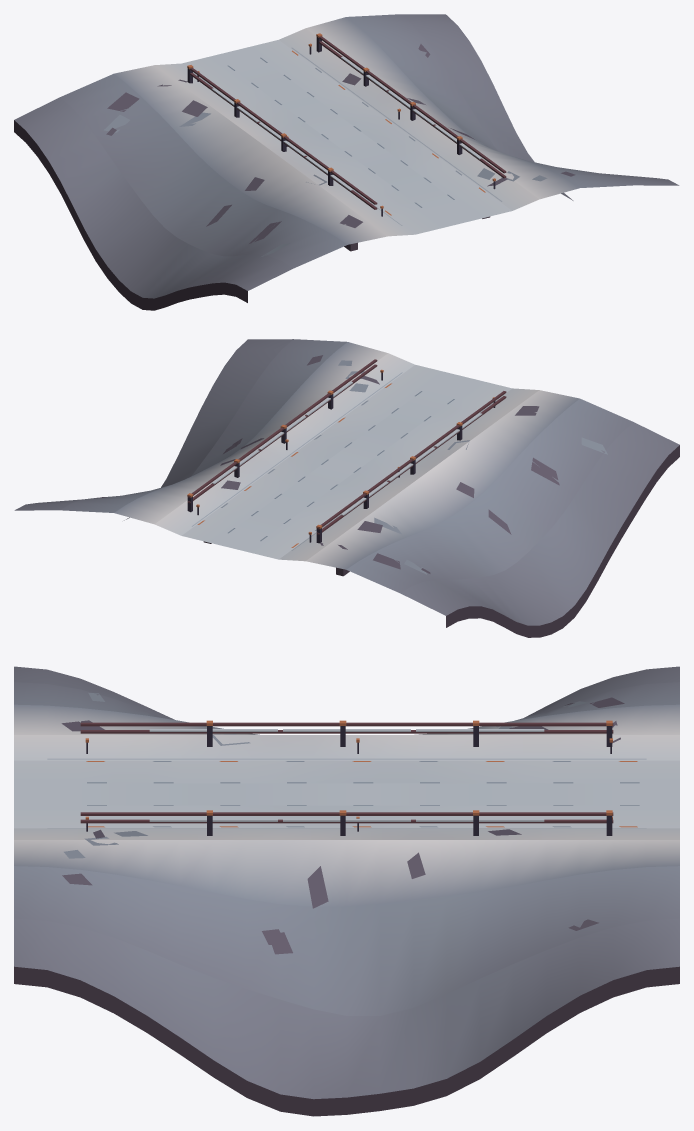
The model's file is 04-bridge.glb.
3 views of the same model, one above another, from view 1: azimuth 30°, elevation 25°; view 2: azimuth 150°, elevation 25°; view 3: azimuth 270°, elevation 25° (orthographic). The views are drawn at different scales.
Visible parts, largest first — view 1: bridge; view 2: bridge; view 3: bridge.
Part boxes in pixels (x1,y1,x2,y2): bridge: (14,14,679,310); bridge: (14,339,679,637); bridge: (14,666,679,1116).
Size of the model in its own units: 32 by 9.92 by 30.
